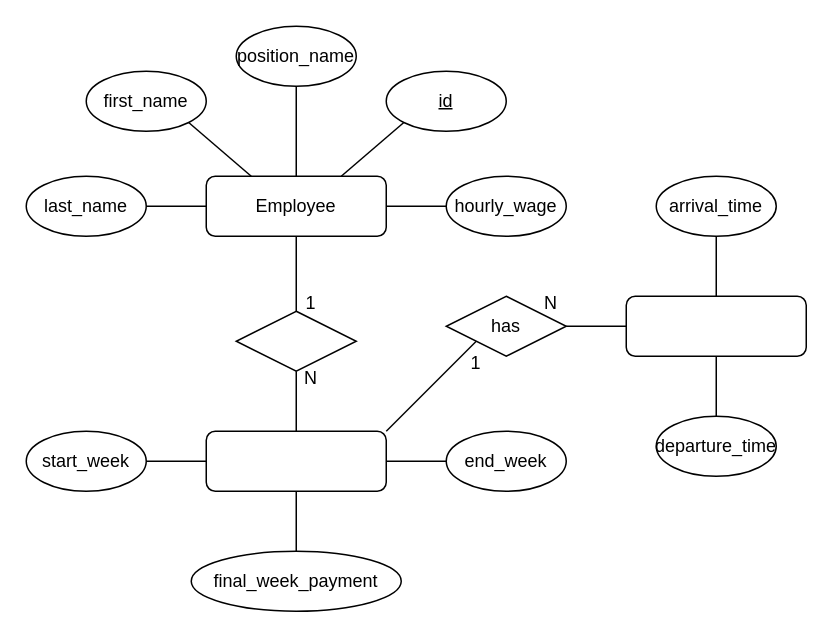
Some shapes in this 833 by 638 pixel diagram are drawn without their labels. The centre of each missing label's shape, as x and y in pixels:
"Days" belongs at [715,325].
"Week" belongs at [295,460].
"works" belongs at [295,340].
